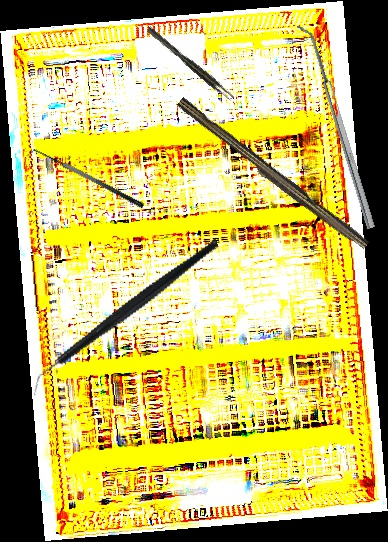Chopper: (5, 237, 245, 398)
Scalpel Handle: (172, 96, 372, 254)
Spatula Surgical: (296, 21, 376, 232), (26, 142, 145, 218)
Tissue Forceps: (146, 24, 236, 103)
